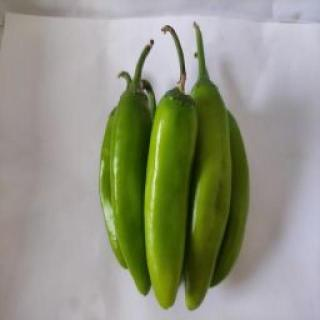Cabai Hijau: (142, 23, 201, 313)
